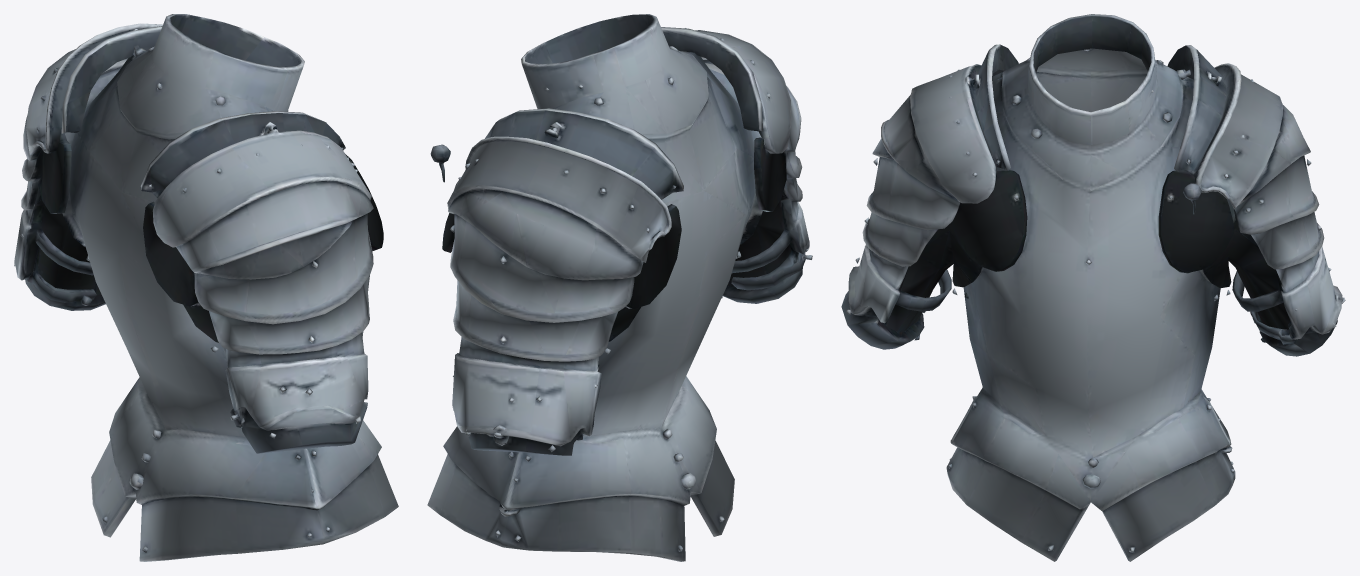
File: steel_platebody.glb
3 renders of one model, left to right at view 1: azimuth 30°, elevation 25°; view 2: azimuth 150°, elevation 25°; view 3: azimuth 270°, elevation 25°, orthographic. The views are drawn at different scales.
Visible parts, largest first — view 1: tripo_node_bc80c6f8-d932-48cd-8371-e106c18d9efe; view 2: tripo_node_bc80c6f8-d932-48cd-8371-e106c18d9efe; view 3: tripo_node_bc80c6f8-d932-48cd-8371-e106c18d9efe.
Boxes of the visible parts, x1,y1,x2,y2 form: tripo_node_bc80c6f8-d932-48cd-8371-e106c18d9efe: (14,14,398,561); tripo_node_bc80c6f8-d932-48cd-8371-e106c18d9efe: (427,14,812,561); tripo_node_bc80c6f8-d932-48cd-8371-e106c18d9efe: (841,14,1345,561).
Size of the model in its own units: 0.5488 by 0.998 by 0.9746.
1 material, 1 textured.
